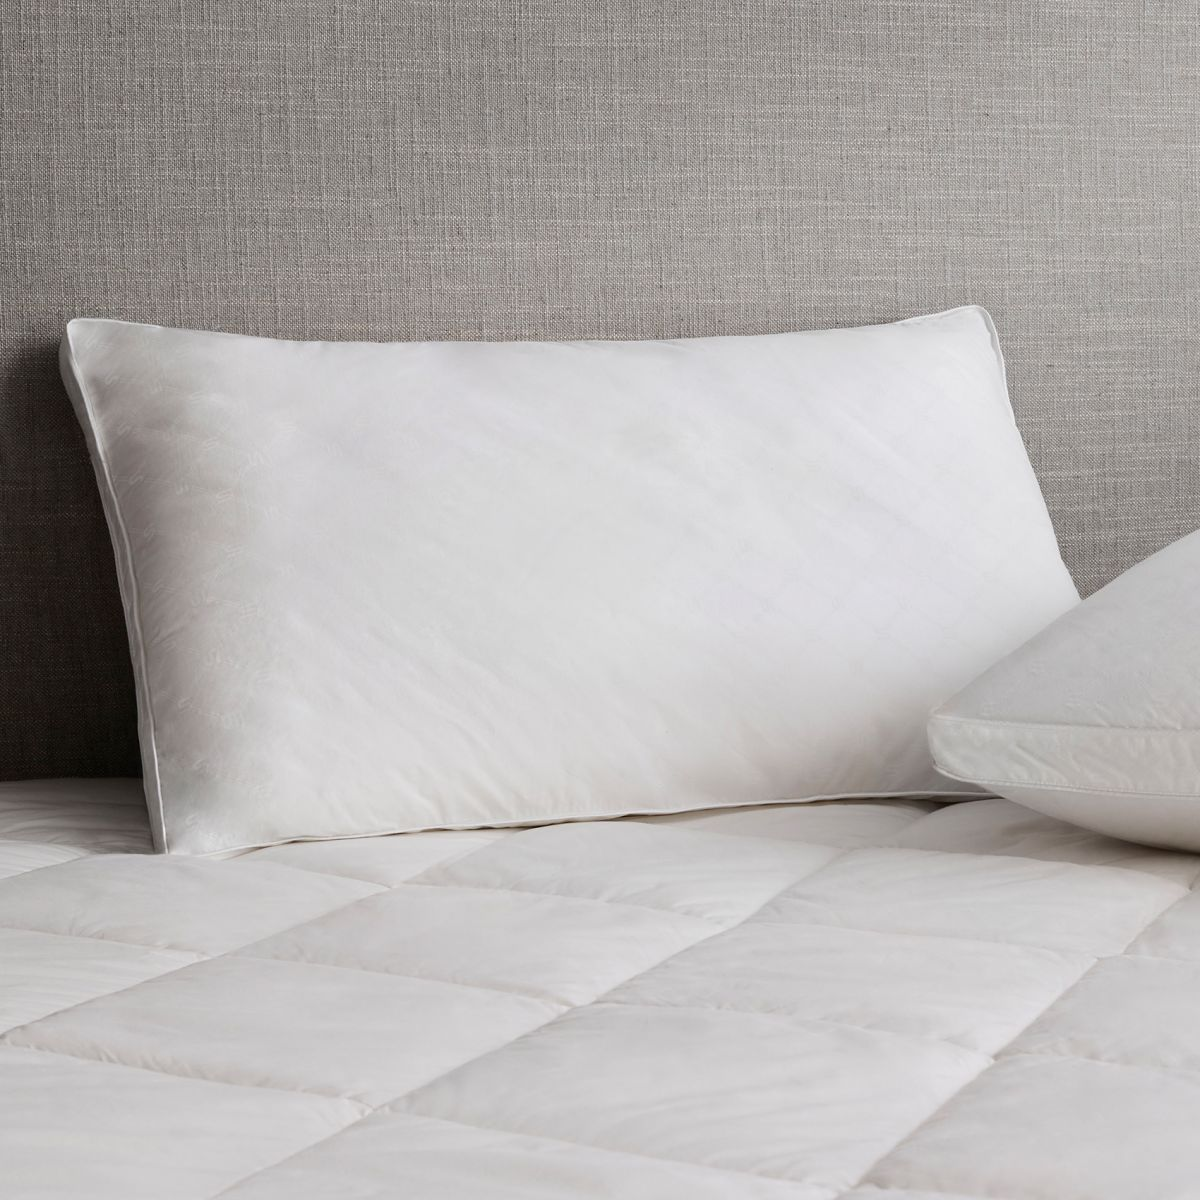bantal: (27, 278, 1177, 869)
